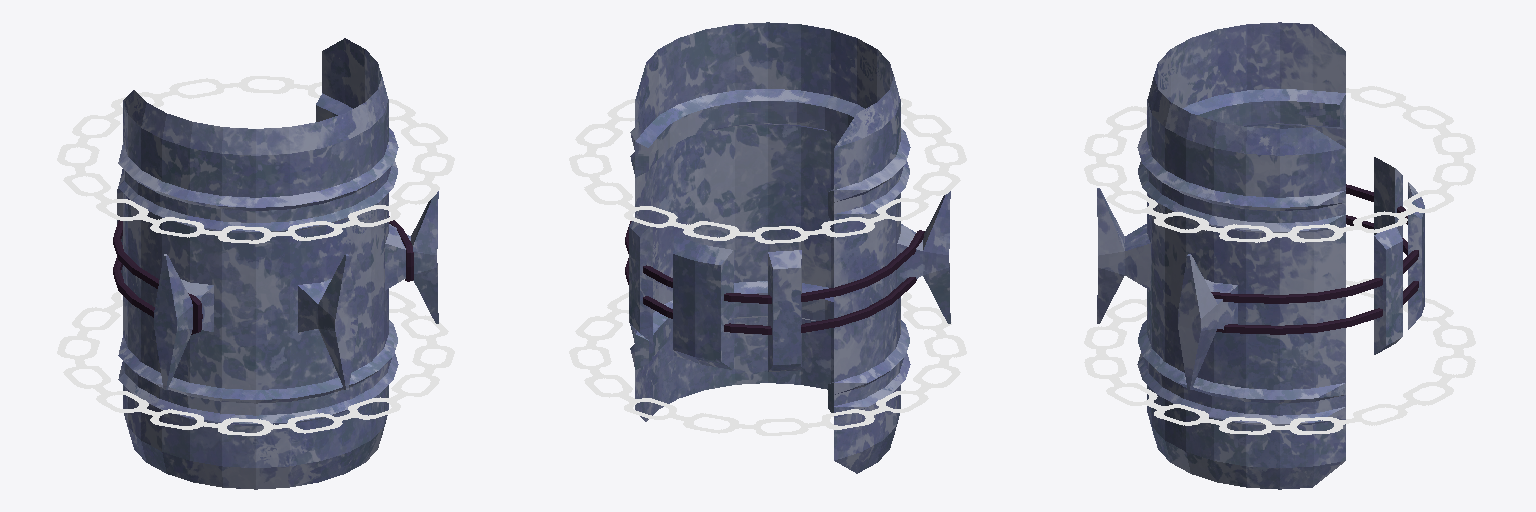
The picture shows the model from 3 angles: view 1: azimuth 30°, elevation 25°; view 2: azimuth 150°, elevation 25°; view 3: azimuth 270°, elevation 25°; orthographic projection.
Visible parts, largest first — view 1: HasteningGreaveDisplayMesh_Hastening_Greave_Display; view 2: HasteningGreaveDisplayMesh_Hastening_Greave_Display; view 3: HasteningGreaveDisplayMesh_Hastening_Greave_Display.
Part boxes in pixels (x1,y1,x2,y2): HasteningGreaveDisplayMesh_Hastening_Greave_Display: (57, 38, 454, 489); HasteningGreaveDisplayMesh_Hastening_Greave_Display: (569, 22, 966, 473); HasteningGreaveDisplayMesh_Hastening_Greave_Display: (1084, 22, 1475, 489).
Bounding box in the file's own units: 1.5 × 1.5 × 1.5.
1 materials, 1 textured.